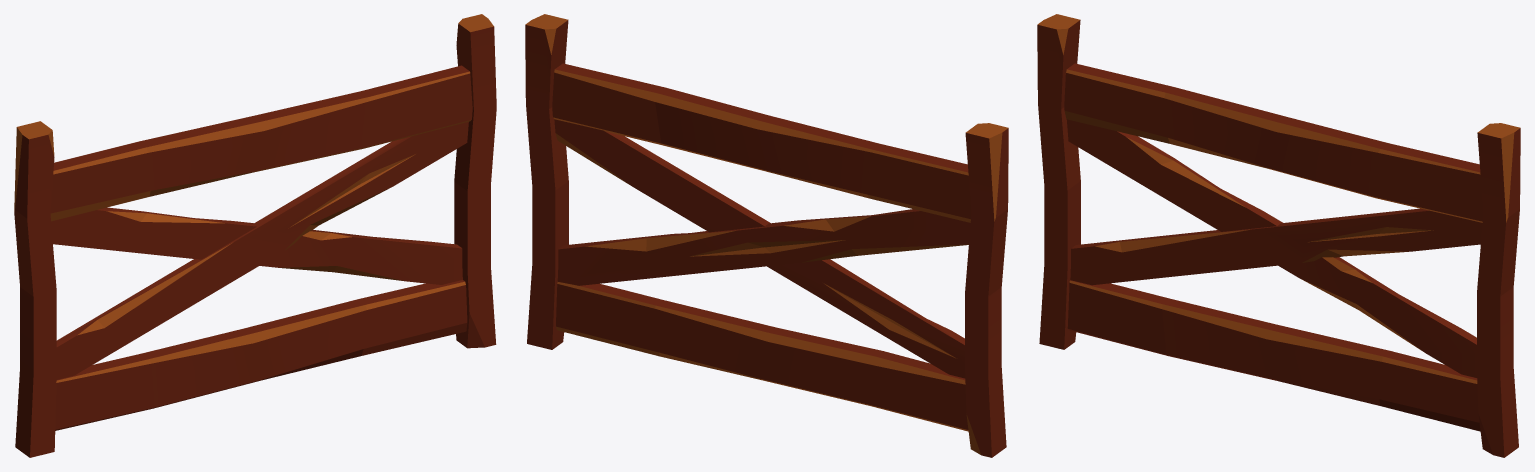
File: Fence_1_3.fbx
The picture shows the model from 3 angles, left to right: view 1: azimuth 30°, elevation 25°; view 2: azimuth 150°, elevation 25°; view 3: azimuth 330°, elevation 25°; orthographic projection.
Visible parts, largest first — view 1: Fence_1_3; view 2: Fence_1_3; view 3: Fence_1_3.
Boxes of the visible parts, <box> form: Fence_1_3: <box>14,14,496,457</box>; Fence_1_3: <box>525,14,1008,457</box>; Fence_1_3: <box>1037,14,1520,457</box>.
Size of the model in its own units: 62 by 40.31 by 3.77.
